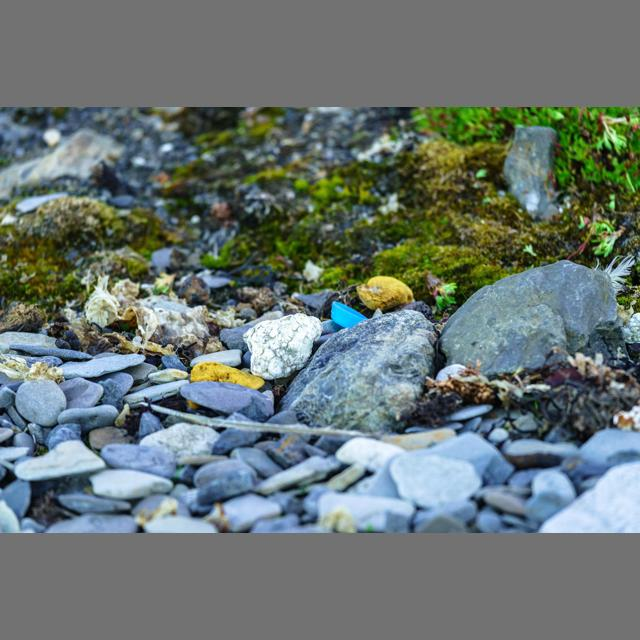litter: (331, 302, 368, 329)
